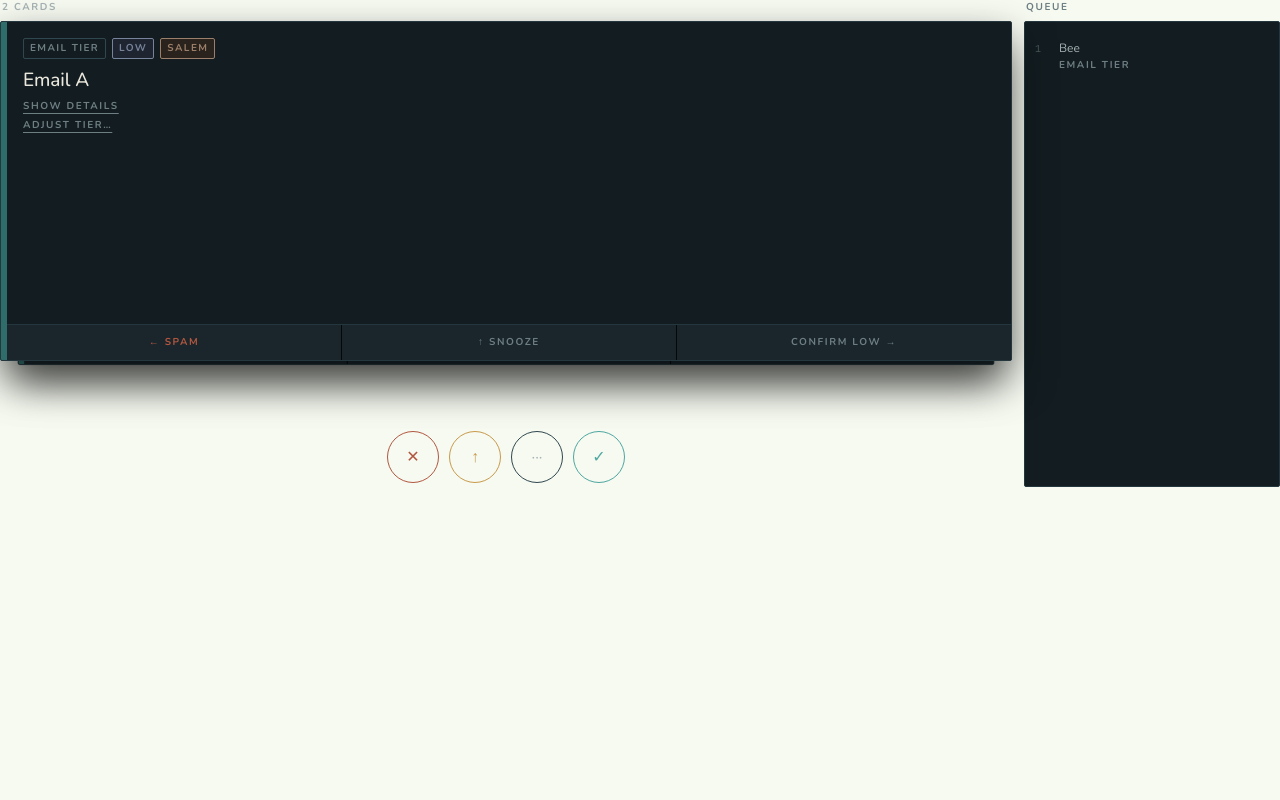
Test: Deck — re-tier picker (task #28 render) › picking a tier posts its exact action_id, closes the picker + shows an honest toast
The width and height of the screenshot is (1280, 800).
Click the button with test id "deck-retier-open" at (68, 126), box left=23, top=118, right=112, bottom=133
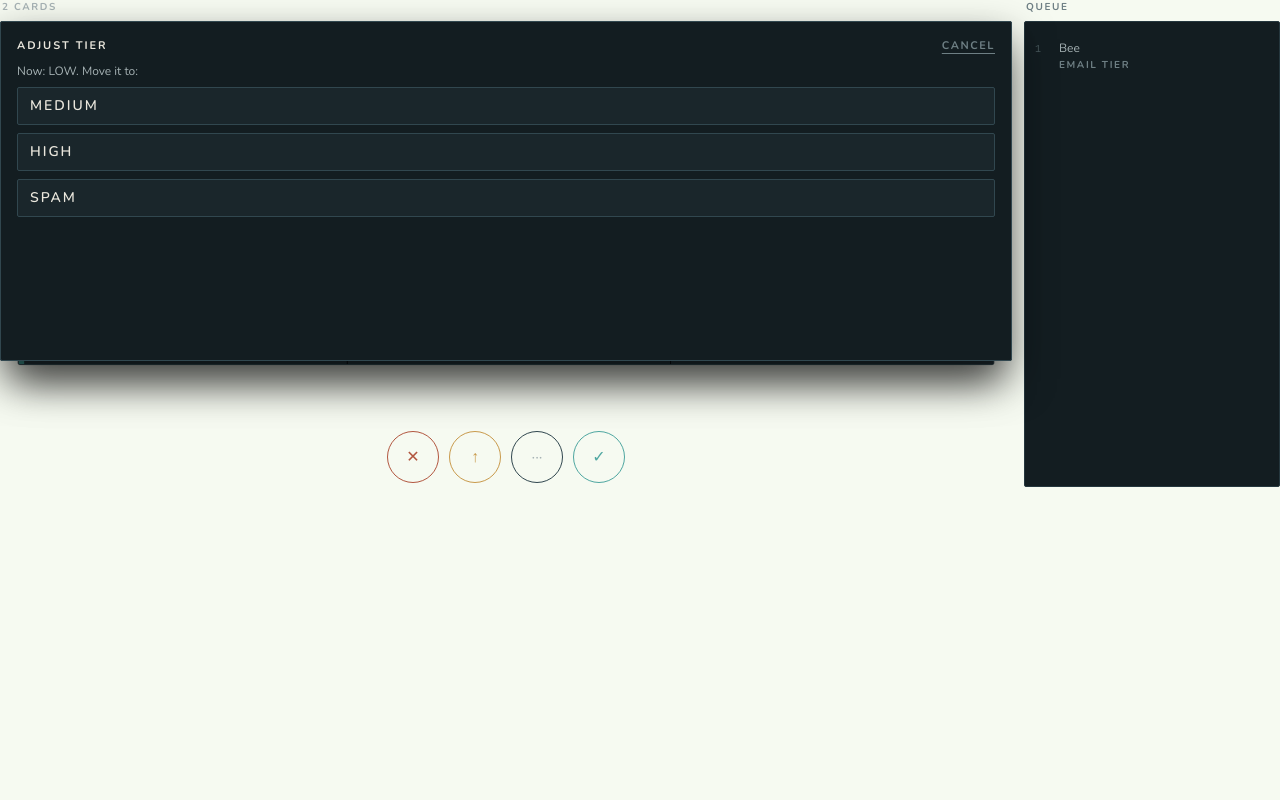
Click the button with test id "deck-retier-choice-high" at (52, 151), box left=17, top=132, right=995, bottom=170
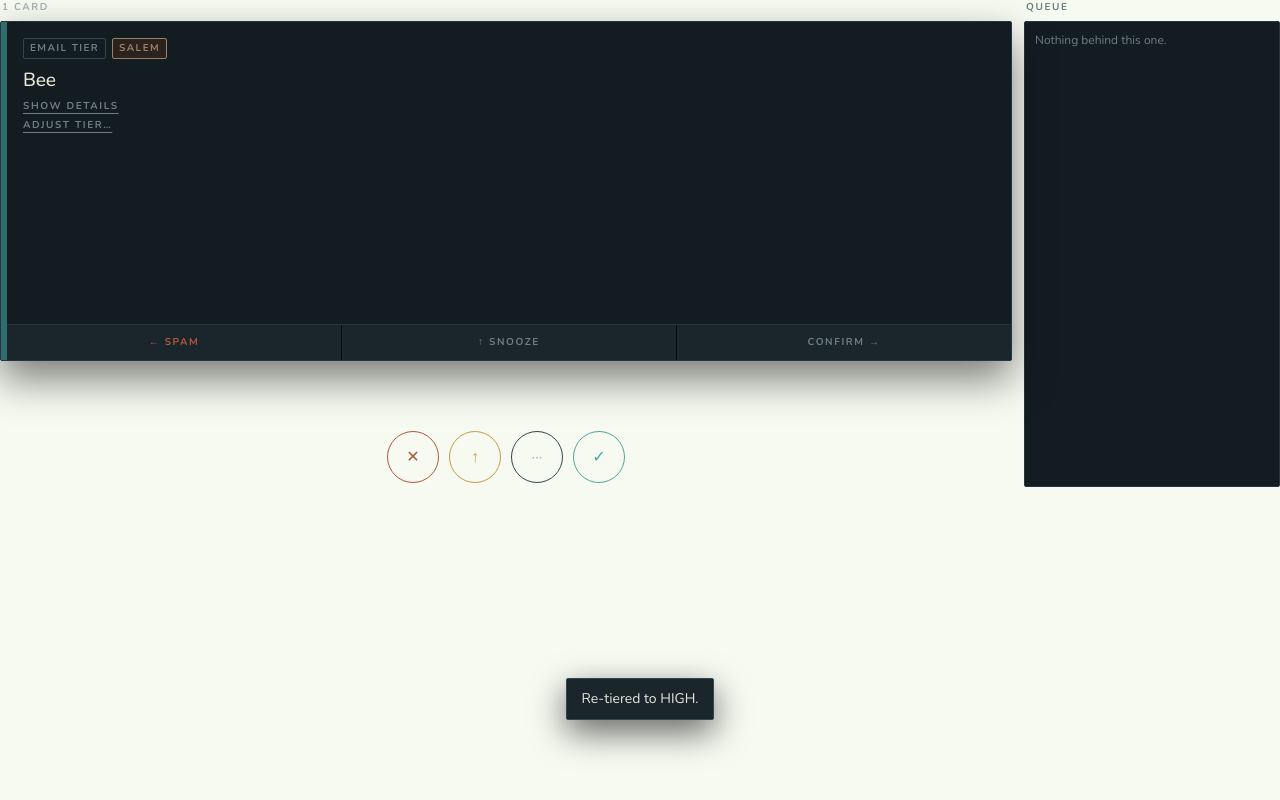
Check: the dialog with test id "deck-retier-picker" is gone
Check: the element with test id "deck-toast" shows "Re-tiered to HIGH", box left=582, top=689, right=699, bottom=708
